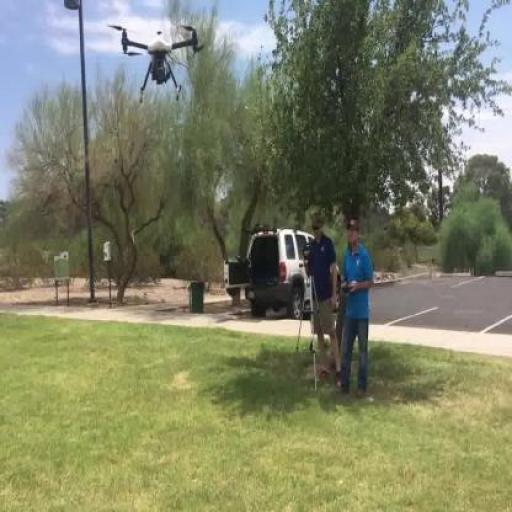drone: (108, 16, 203, 112)
